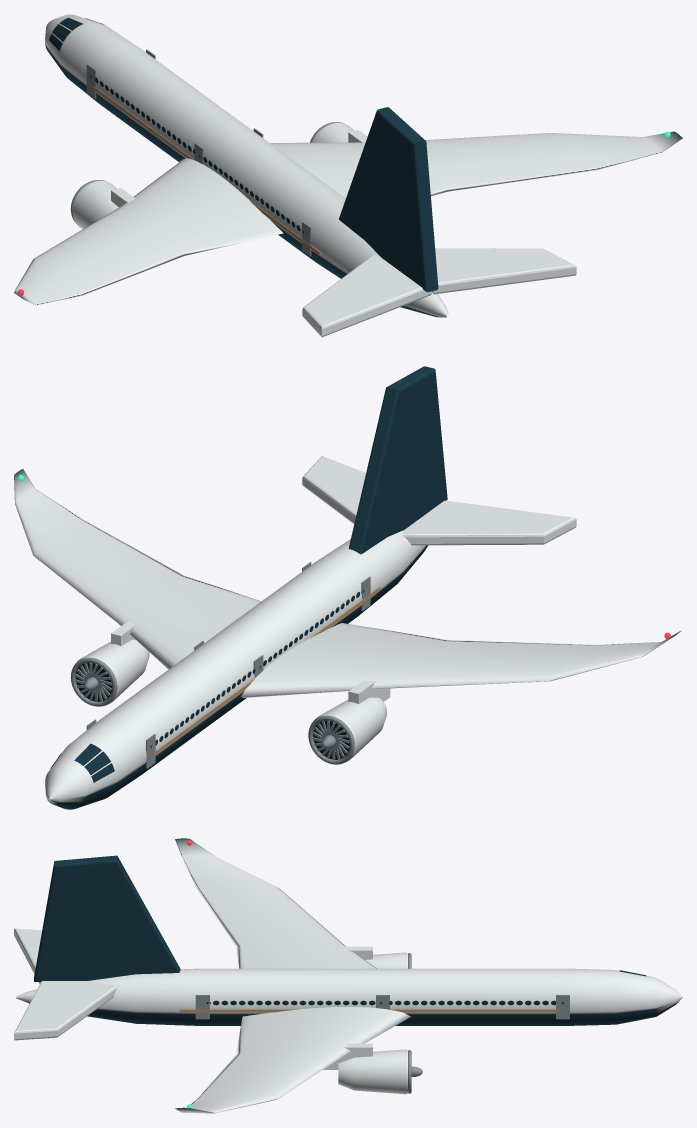
3 renders of one model, top to bottom at view 1: azimuth 30°, elevation 25°; view 2: azimuth 150°, elevation 25°; view 3: azimuth 270°, elevation 25°, orthographic. The views are drawn at different scales.
Bounding box in the file's own units: 35.8 × 11.43 × 37.57.
